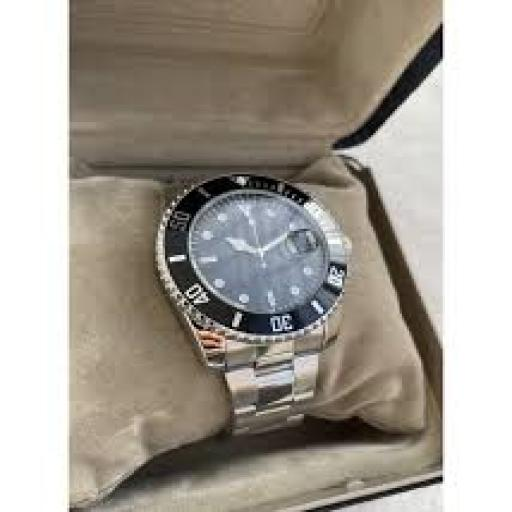KolSaati: (139, 131, 359, 465)
